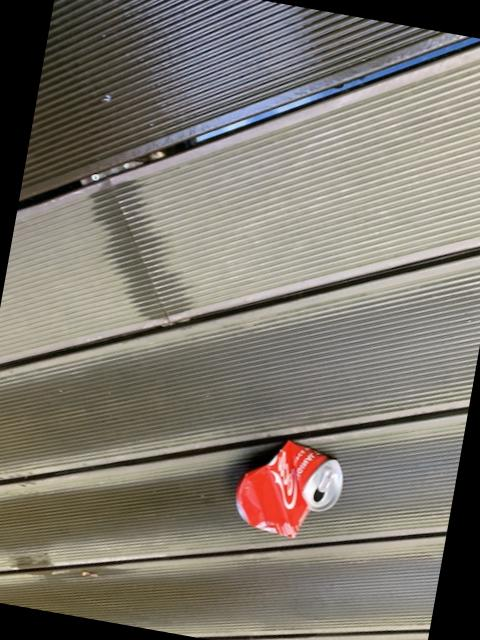metal: (233, 441, 340, 537)
